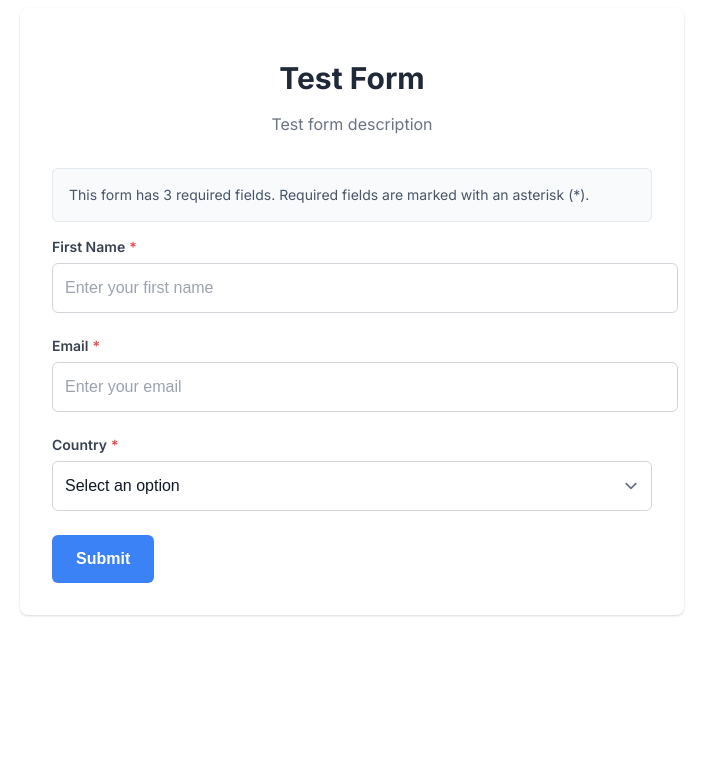
it: Form Component › validates required fields on submission
The image size is (705, 768).
Step 1. Click the button "Submit" → x=103, y=559, box [52,535,154,583]
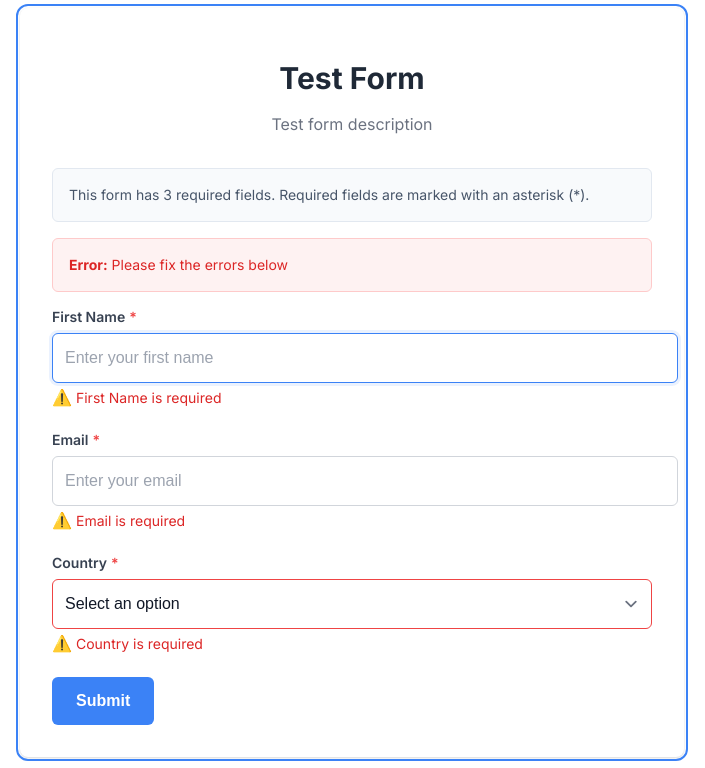
Result: the text "Please fix the errors below" is shown at [112,256,288,273]
Result: the text "⚠️ First Name is required" is shown 3 times at [52,387,222,407]; [52,510,185,530]; [52,633,203,653]
Result: the text "First Name is required" is shown at [76,389,222,406]
